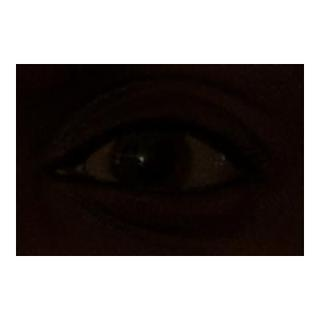pupil: (133, 141, 170, 178)
